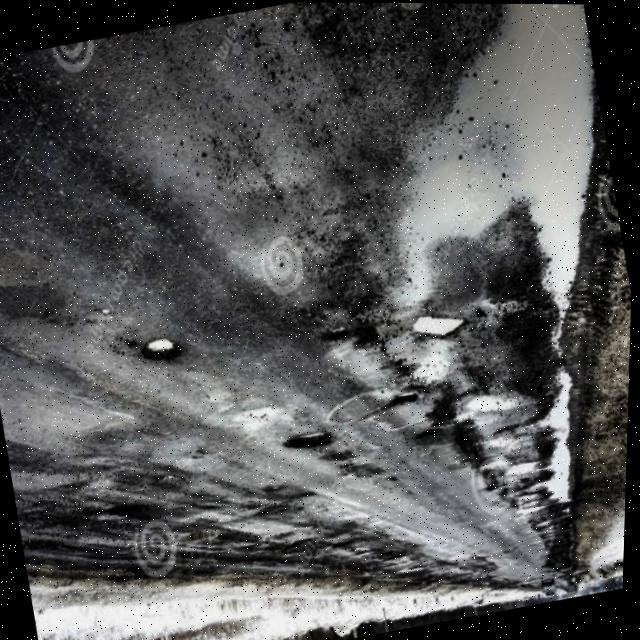Pothole: (400, 142, 521, 257), (406, 301, 475, 353), (463, 375, 530, 426), (283, 414, 344, 463), (482, 439, 542, 487), (139, 324, 186, 378), (317, 314, 368, 356), (390, 381, 425, 414)
